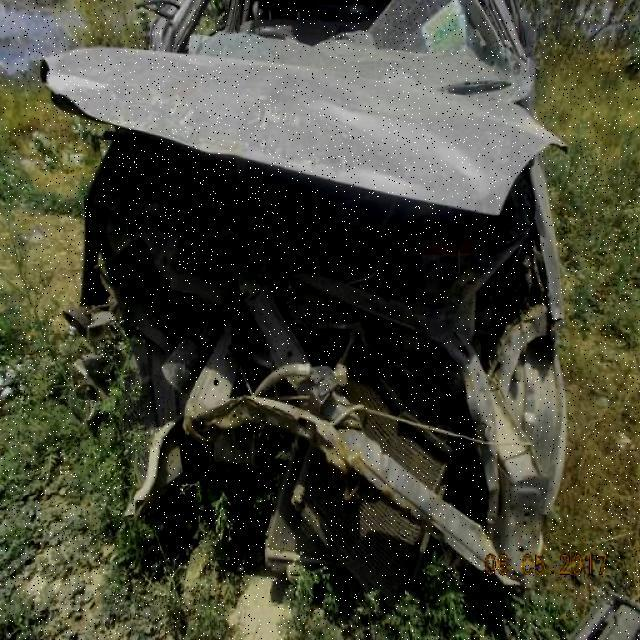car damage: (50, 86, 562, 561), (48, 43, 563, 208), (177, 2, 535, 95)
